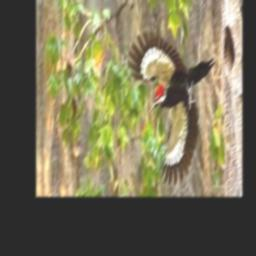Woodpecker: (125, 29, 215, 182)
